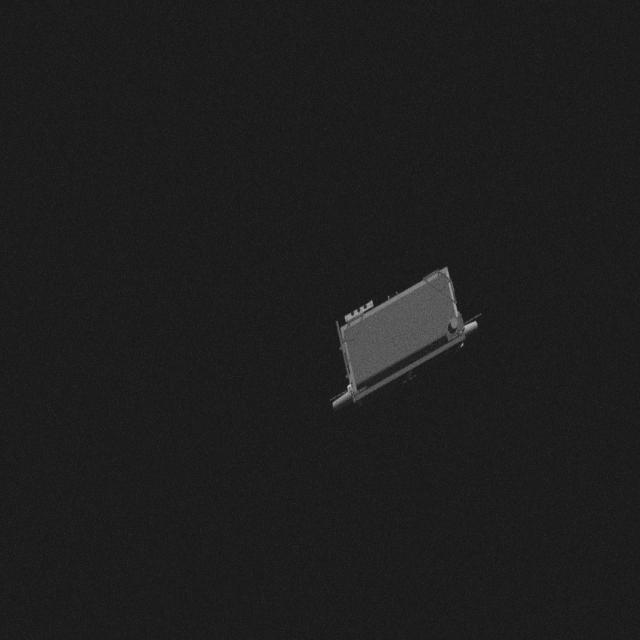satellite: (314, 268, 488, 418)
